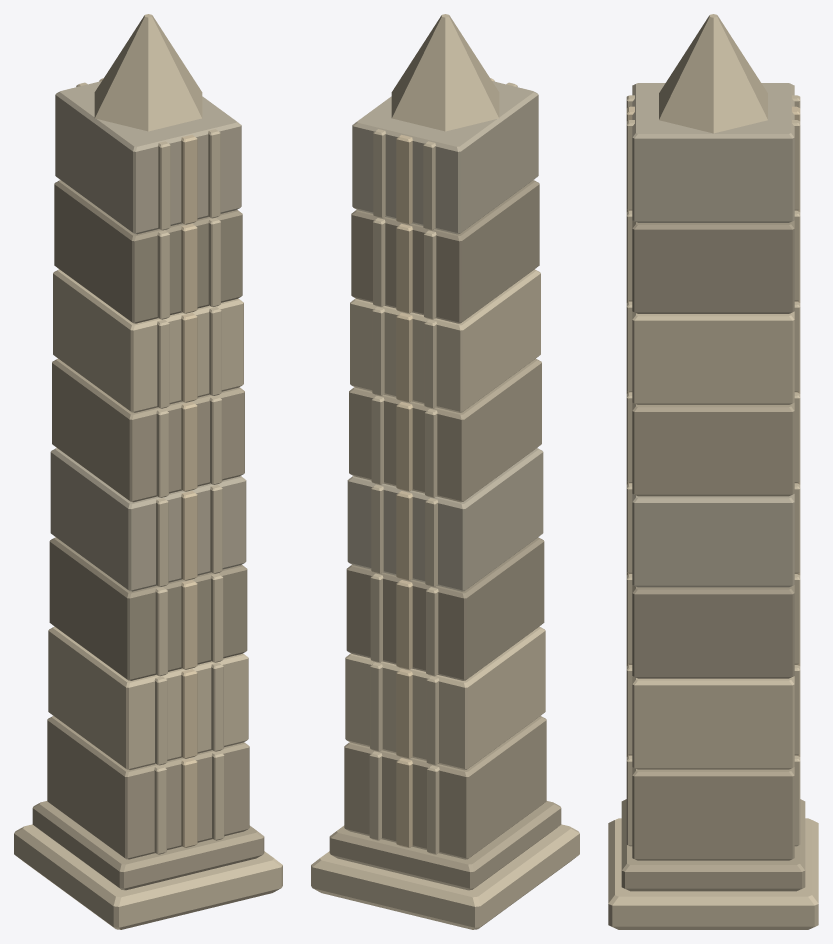
The model's file is Pier_Spire_5m.fbx.
The picture shows the model from 3 angles, left to right: view 1: azimuth 30°, elevation 25°; view 2: azimuth 150°, elevation 25°; view 3: azimuth 270°, elevation 25°; orthographic projection.
Parts seen in each view (by area): view 1: Pier_Spire_5m; view 2: Pier_Spire_5m; view 3: Pier_Spire_5m.
Boxes of the visible parts, x1,y1,x2,y2 form: Pier_Spire_5m: (14,14,282,929); Pier_Spire_5m: (311,14,579,929); Pier_Spire_5m: (608,14,818,929).
Bounding box in the file's own units: 1.03 × 5 × 1.09.
